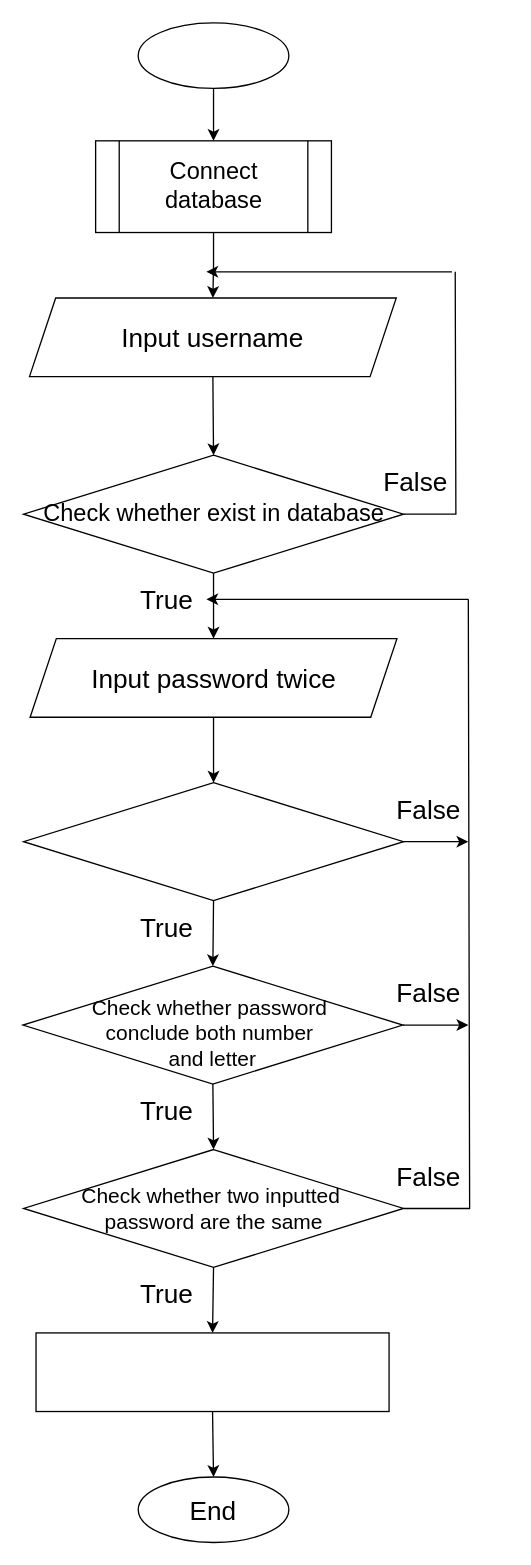
Some shapes in this 531 by 1565 pixel diagram are drawn without their labels. Here are the shapes that lost their labels. From the top down, the centre of each, then its label:
the point at 213,55: Start
the point at 212,841: Check whether password conclude at least 8 characters
the point at 212,1372: Submit the data to database and set a new cookie and locate to homepage
